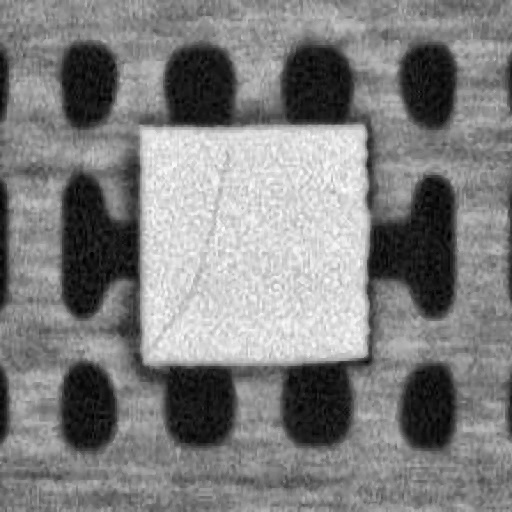DIE_CRACK: (142, 149, 226, 350)
